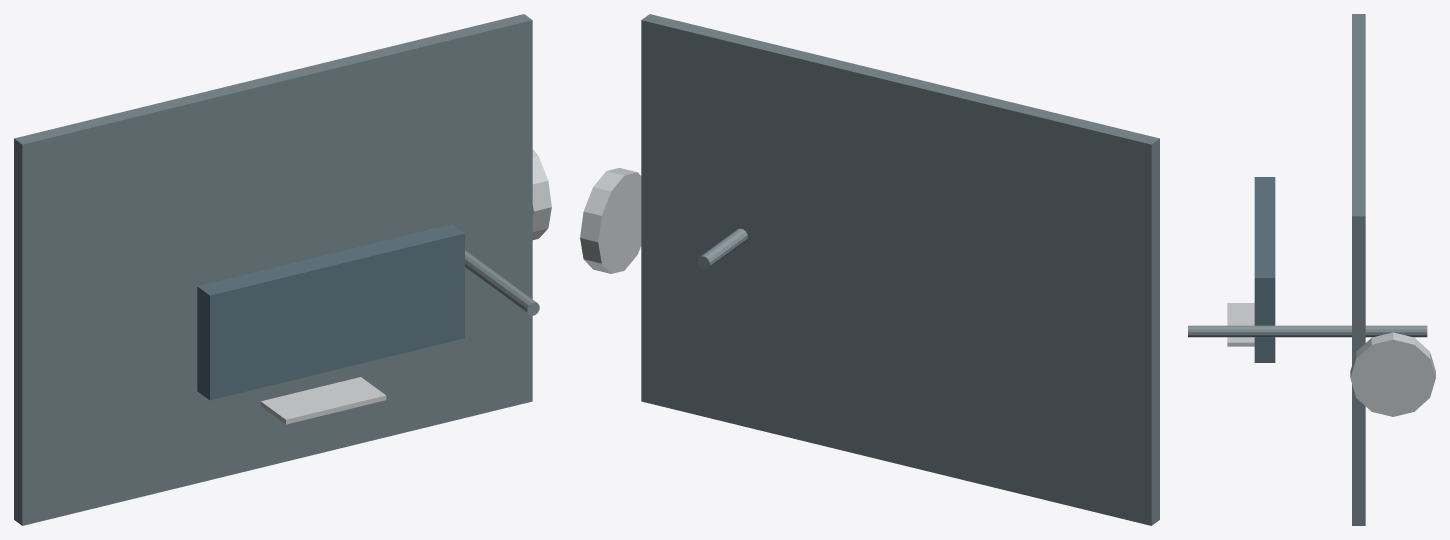
Rendered from bp-cuff-medium.glb.
3 renders of one model, left to right at view 1: azimuth 30°, elevation 25°; view 2: azimuth 150°, elevation 25°; view 3: azimuth 270°, elevation 25°, orthographic. The views are drawn at different scales.
Visible parts, largest first — view 1: presentation_base_detail, bp_cuff, cuff_label_detail, bp_tube, bp_gauge; view 2: presentation_base_detail, bp_gauge, bp_tube; view 3: presentation_base_detail, bp_gauge, bp_cuff, bp_tube, cuff_label_detail.
Part boxes in pixels (box(x1,y1,x2,y2)): presentation_base_detail: box(14, 14, 532, 525); bp_cuff: box(197, 224, 464, 400); cuff_label_detail: box(260, 377, 386, 424); bp_tube: box(431, 228, 539, 315); bp_gauge: box(532, 149, 551, 239); presentation_base_detail: box(641, 14, 1159, 525); bp_gauge: box(580, 168, 641, 273); bp_tube: box(697, 228, 747, 269); presentation_base_detail: box(1352, 14, 1365, 525); bp_gauge: box(1350, 332, 1435, 416); bp_cuff: box(1254, 177, 1275, 362); bp_tube: box(1188, 325, 1427, 337); cuff_label_detail: box(1227, 303, 1254, 346).
Size of the model in its own units: 2.9 by 2 by 1.45.
